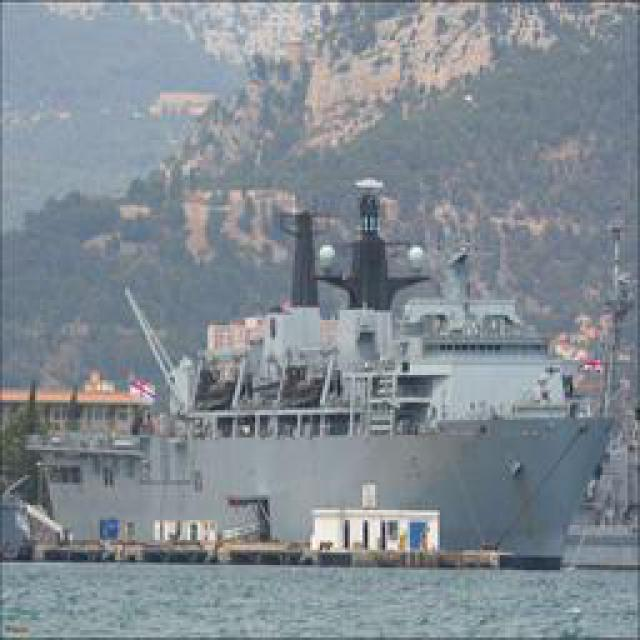Ship: (16, 198, 621, 576)
